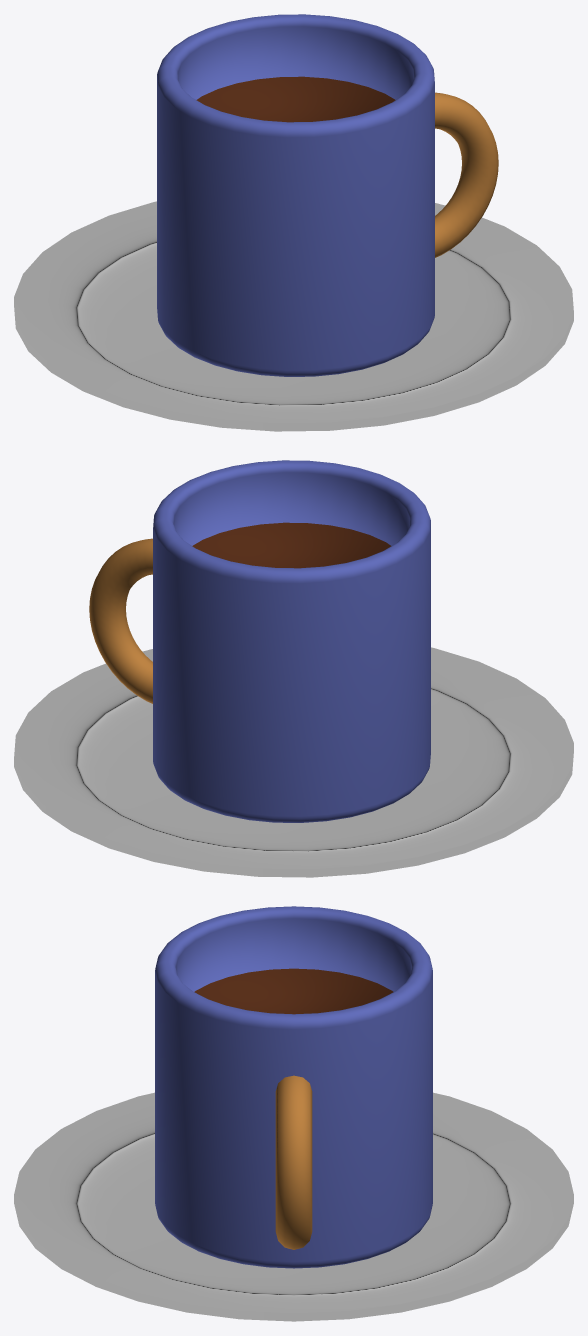
File: asset.glb
The picture shows the model from 3 angles, top to bottom: view 1: azimuth 30°, elevation 25°; view 2: azimuth 150°, elevation 25°; view 3: azimuth 270°, elevation 25°; orthographic projection.
Parts seen in each view (by area): view 1: 円柱, 円柱.001, トーラス; view 2: 円柱, 円柱.001, トーラス; view 3: 円柱, 円柱.001, トーラス.
Part boxes in pixels (left/top/right/bottom): 円柱: left=157, top=14, right=434, bottom=376; 円柱.001: left=14, top=201, right=573, bottom=431; トーラス: left=435, top=92, right=498, bottom=257; 円柱: left=153, top=460, right=430, bottom=822; 円柱.001: left=14, top=647, right=573, bottom=877; トーラス: left=89, top=538, right=152, bottom=703; 円柱: left=155, top=906, right=432, bottom=1268; 円柱.001: left=14, top=1092, right=573, bottom=1321; トーラス: left=275, top=1075, right=312, bottom=1249.
Size of the model in its own units: 4.03 by 2.11 by 4.03.
